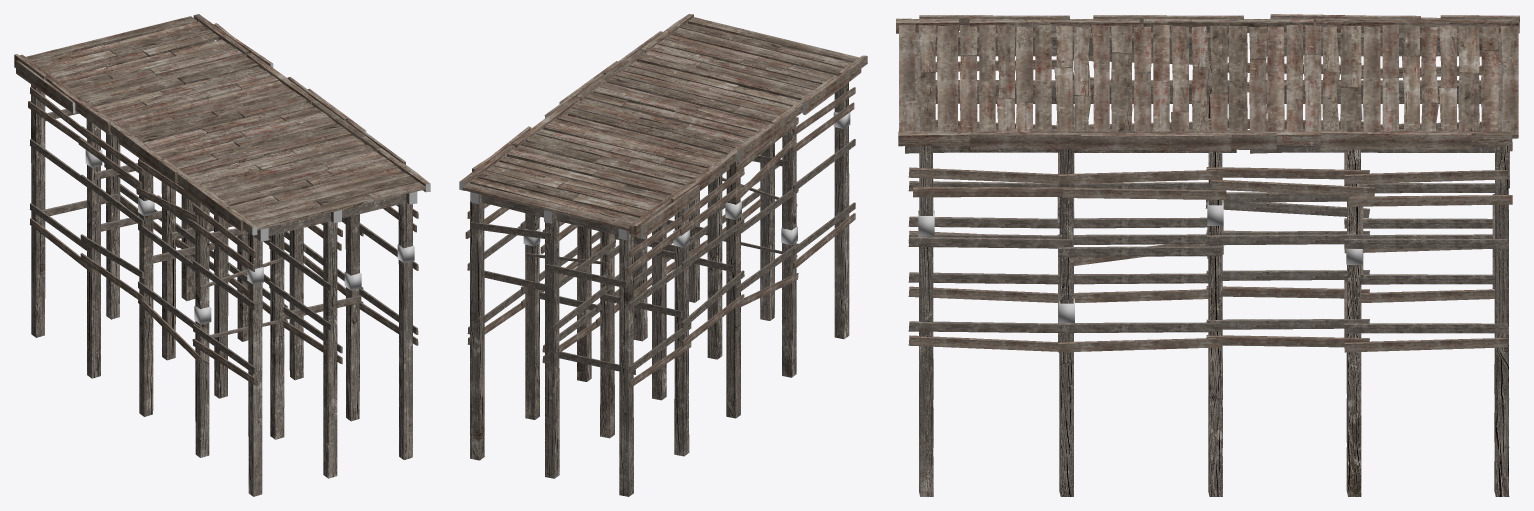
Rendered from Pier1.fbx.
3 renders of one model, left to right at view 1: azimuth 30°, elevation 25°; view 2: azimuth 150°, elevation 25°; view 3: azimuth 270°, elevation 25°, orthographic. The views are drawn at different scales.
Parts seen in each view (by area): view 1: polySurface399; view 2: polySurface399; view 3: polySurface399.
Part boxes in pixels (box(x1,y1,x2,y2)): polySurface399: box(14, 14, 430, 496); polySurface399: box(459, 14, 867, 496); polySurface399: box(896, 14, 1519, 496).
Bounding box in the file's own units: 5.59 × 7.89 × 12.01.
